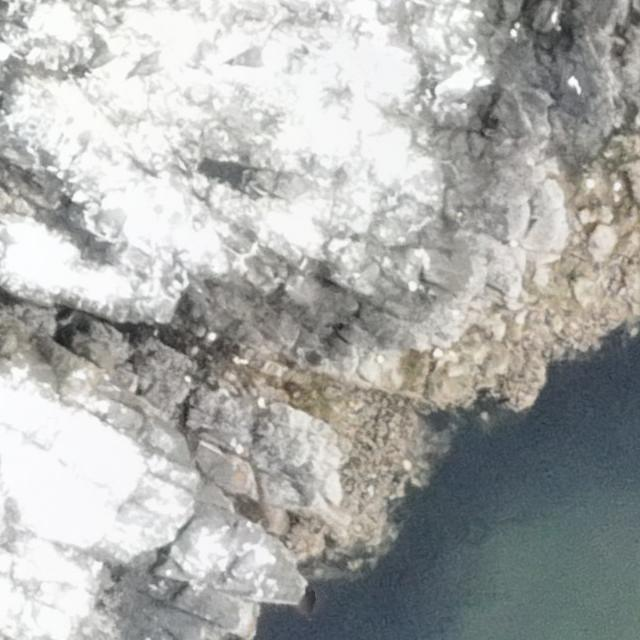umineko: (133, 46, 177, 80), (232, 44, 284, 68)
